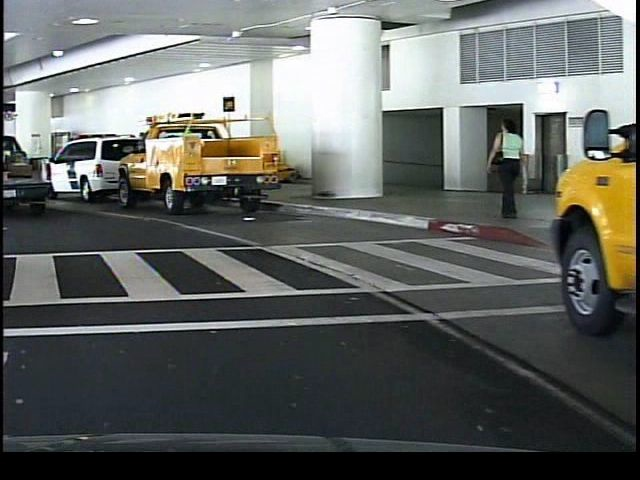person: (482, 112, 526, 223)
